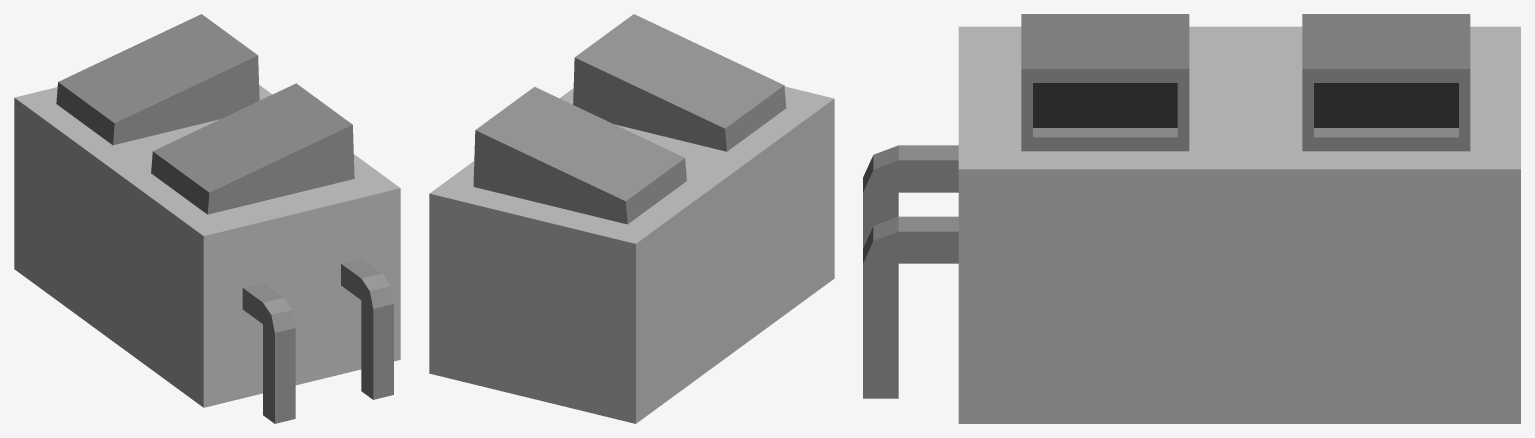
The model's file is ac_unit_01.fbx.
The picture shows the model from 3 angles, left to right: view 1: azimuth 30°, elevation 25°; view 2: azimuth 150°, elevation 25°; view 3: azimuth 270°, elevation 25°; orthographic projection. The views are drawn at different scales.
Parts seen in each view (by area): view 1: ac_unit_01; view 2: ac_unit_01; view 3: ac_unit_01.
Boxes of the visible parts, x1,y1,x2,y2 form: ac_unit_01: (14,14,400,423); ac_unit_01: (429,14,834,423); ac_unit_01: (863,14,1520,423).
Bounding box in the file's own units: 1.2 × 1.33 × 2.34.
